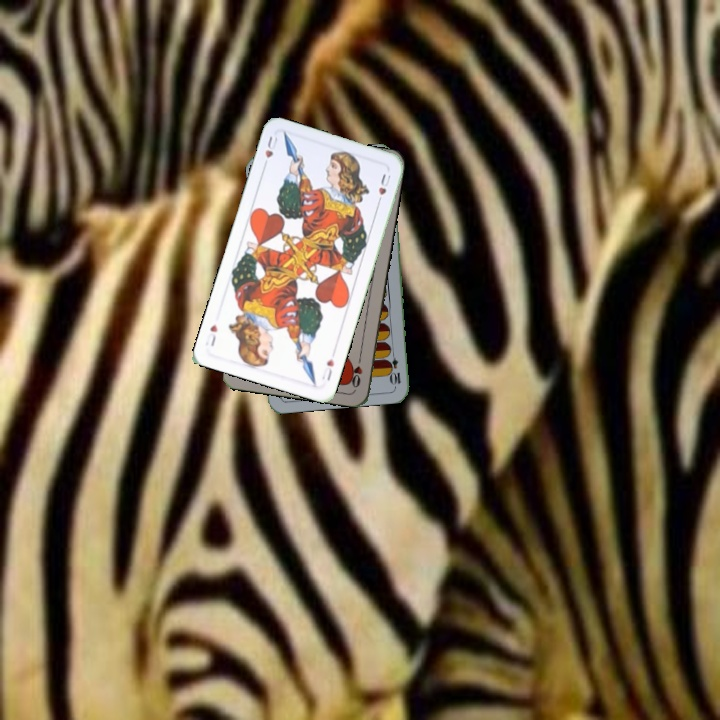E10: (386, 347, 403, 387)
HO: (347, 350, 365, 390)
HU: (259, 132, 281, 171), (317, 355, 337, 383)
